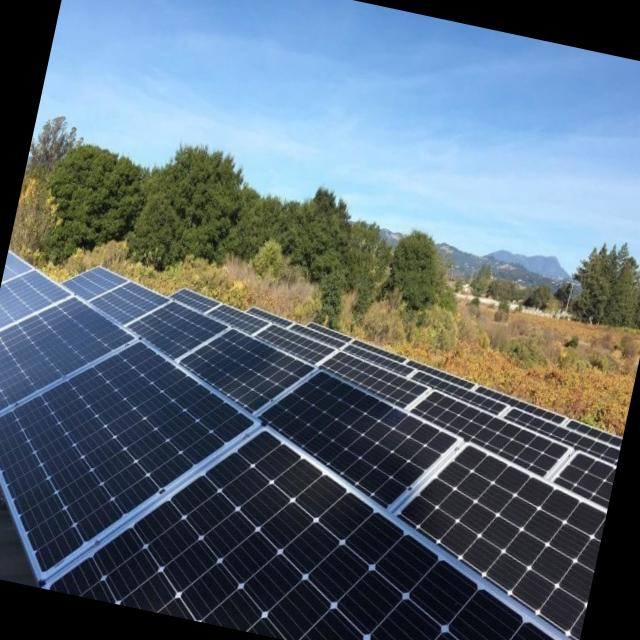no faulty: (57, 263, 604, 640), (42, 431, 556, 640), (182, 303, 618, 502), (0, 343, 259, 565), (0, 261, 121, 404)
